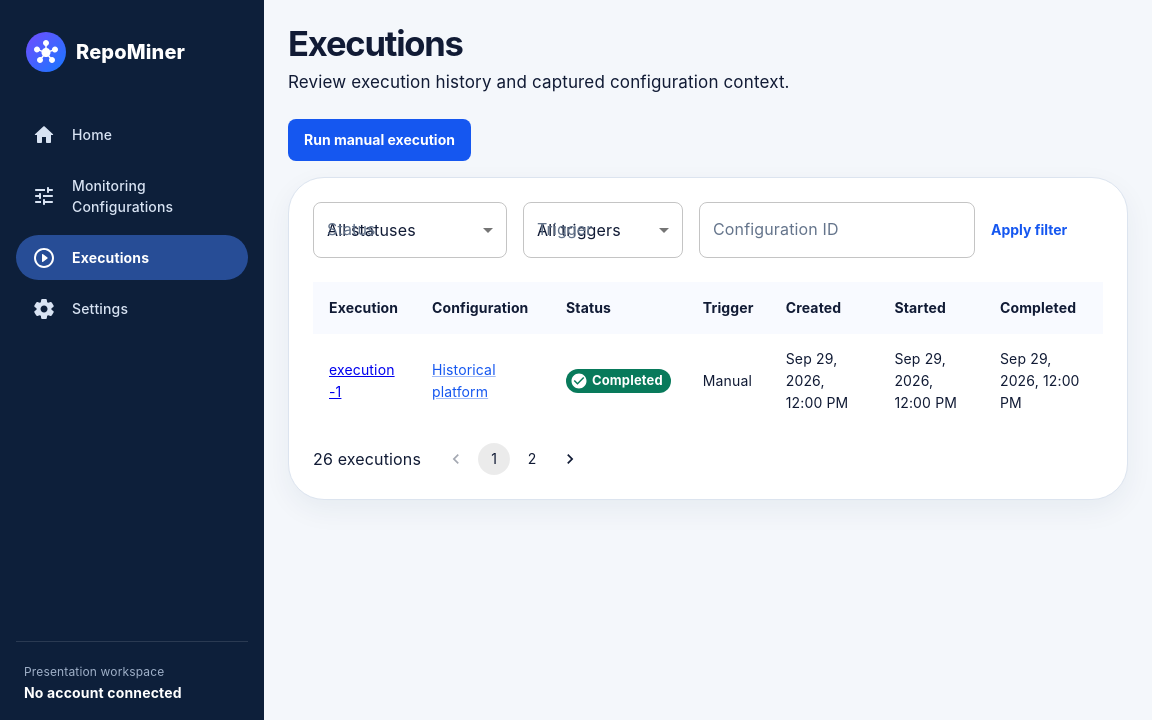
navigates pages and opens execution detail with visible controls
This screenshot has width=1152, height=720.
Expected: the link "execution-1" is shown, [329,361,395,400]
Click the button named "Go to page 2": (532, 459) [516,443,548,475]
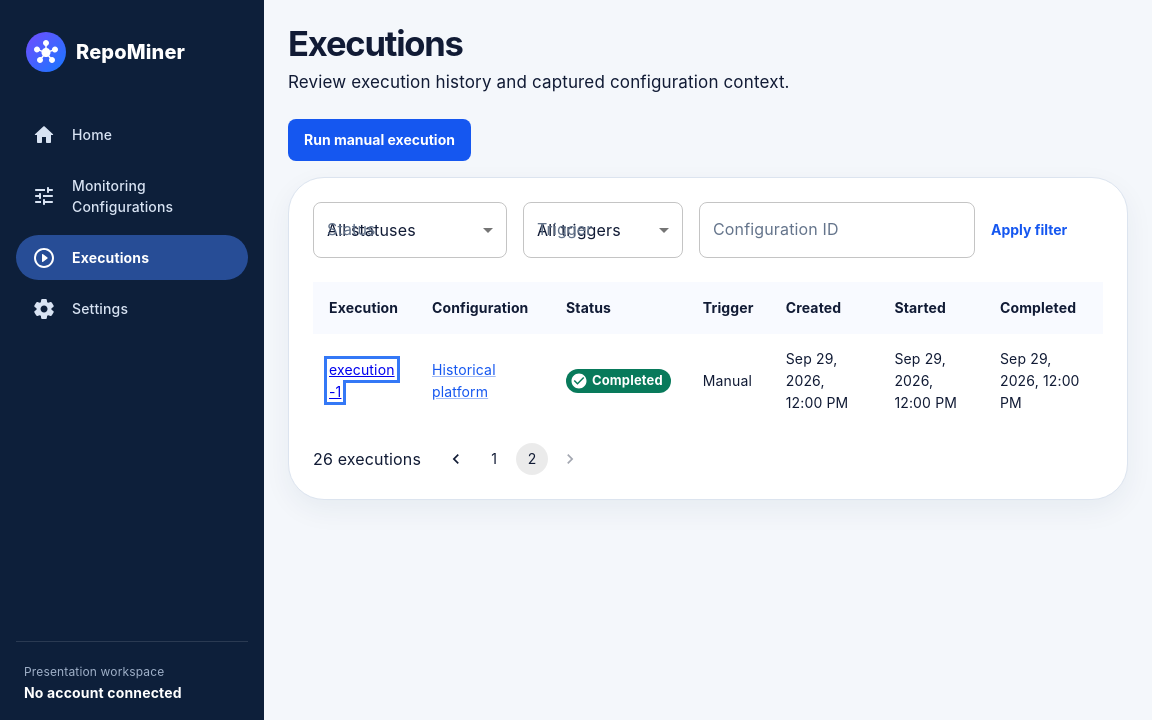
Expected: the link "execution-1" is shown, [329,361,395,400]
Press Enter
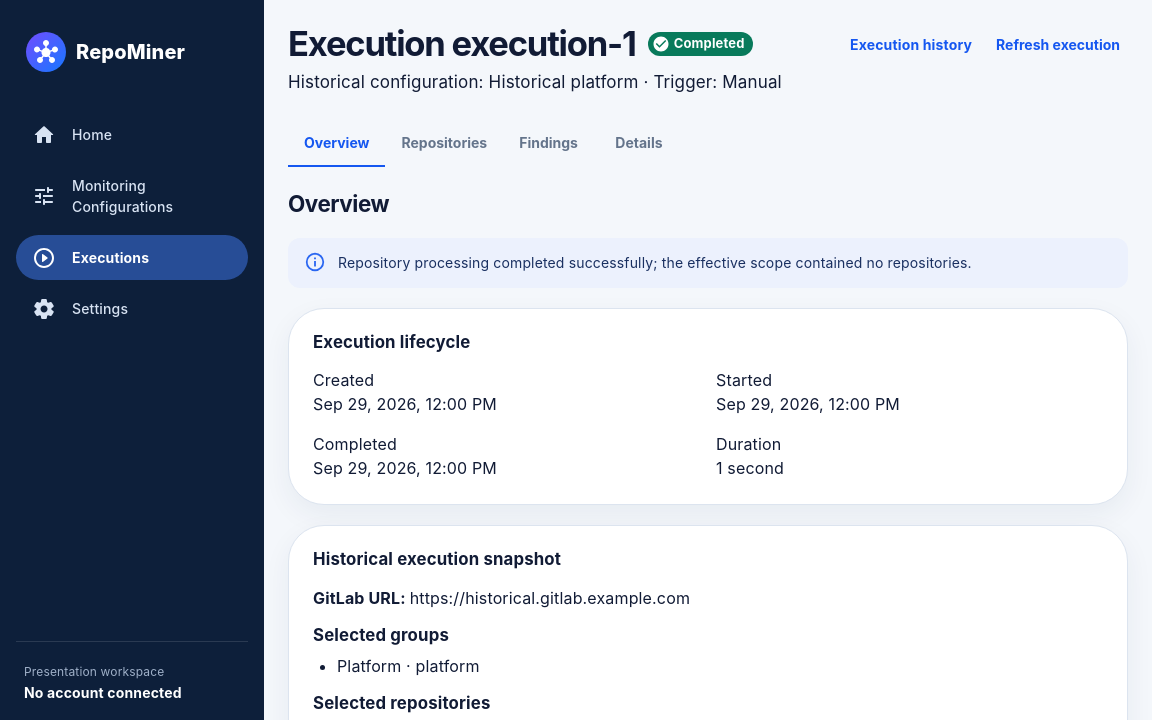
Result: the heading "Execution execution-1" is shown at [288,24,636,64]
